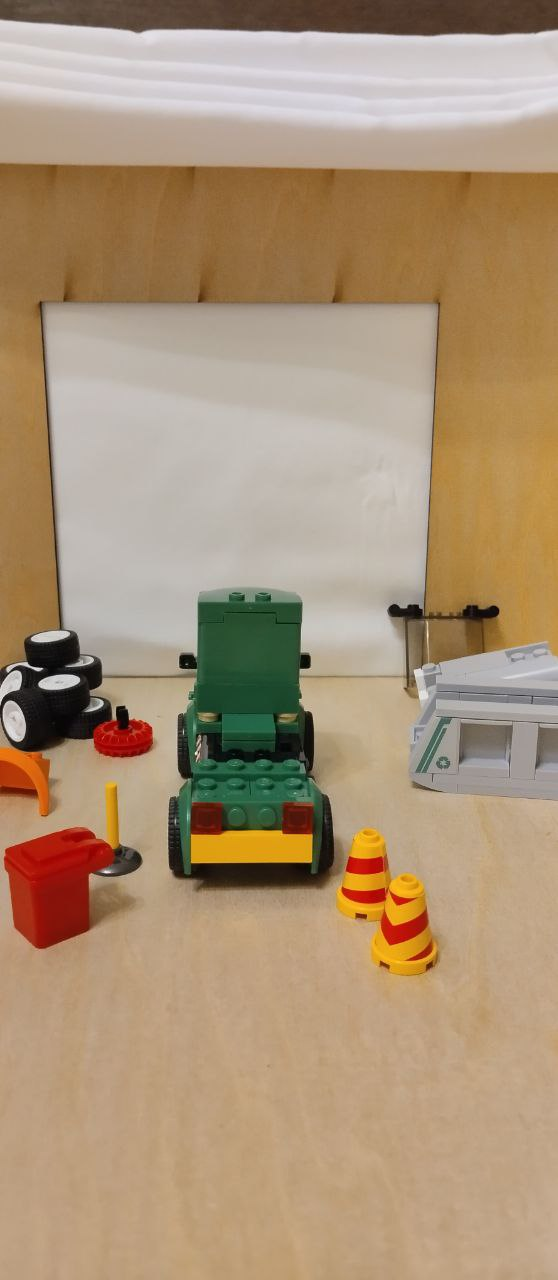Cone: (367, 863, 445, 978), (331, 826, 397, 926)
Object Red: (0, 821, 123, 956)
Truck: (162, 584, 342, 900)
